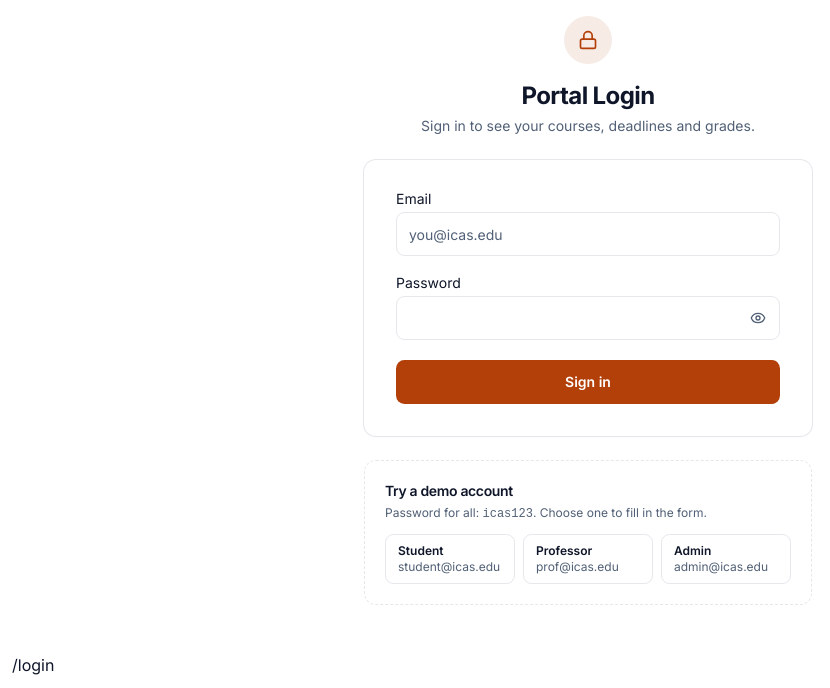
portal login flow › shows an error for invalid credentials
Type "student@icas.edu" into the field labelled "Email" at (588, 234), box [396,212,780,256]
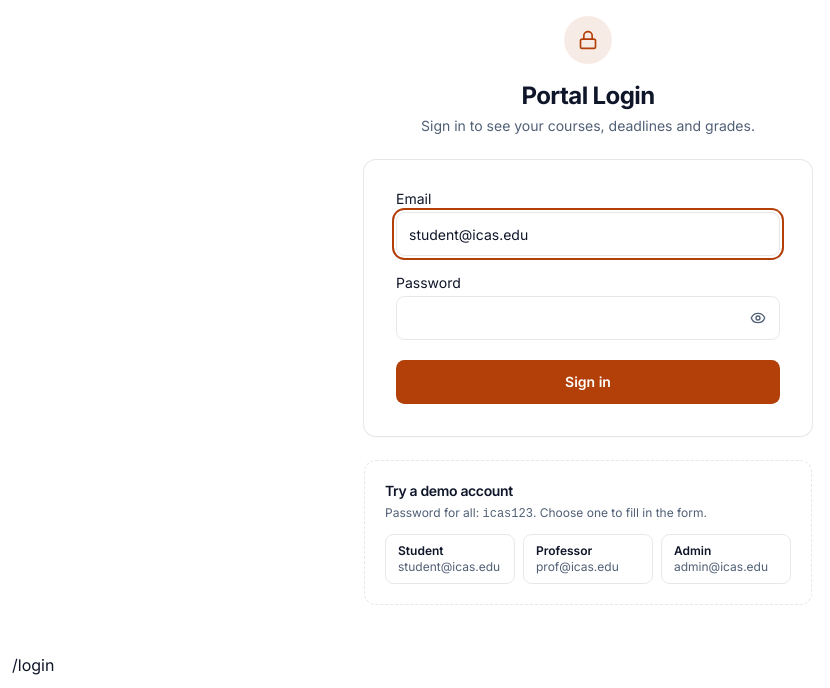
Type "wrong" into the password field labelled "Password" at (588, 318), box [396,296,780,340]
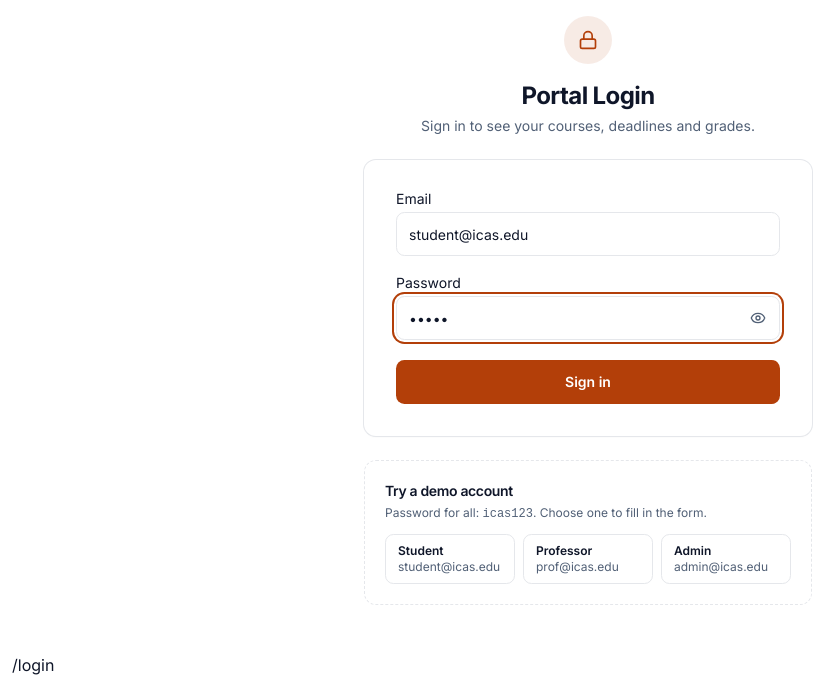
Click the button "Sign in" at (588, 382), box [396,360,780,404]
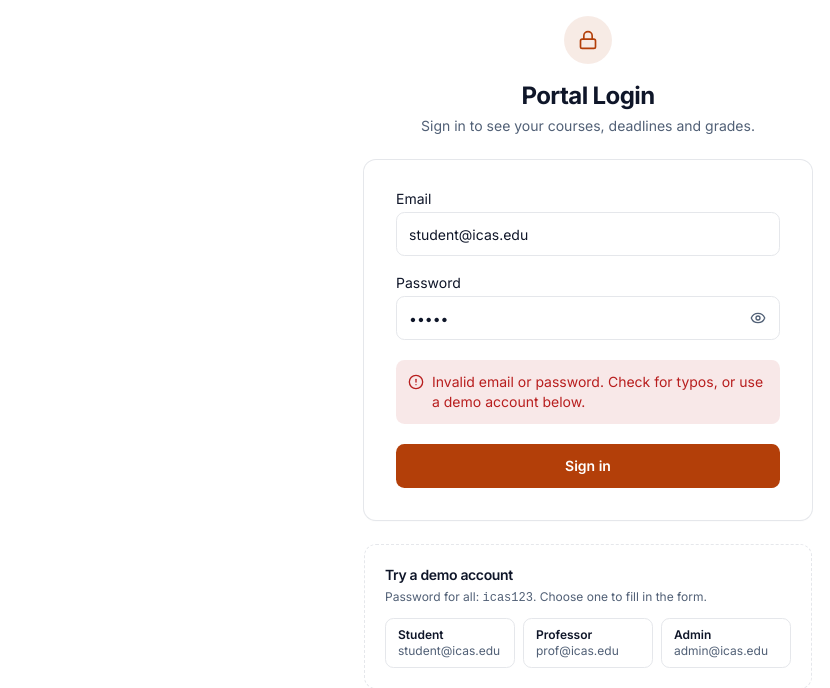
Check: the message shows "Invalid email or password", box [432,373,763,410]
